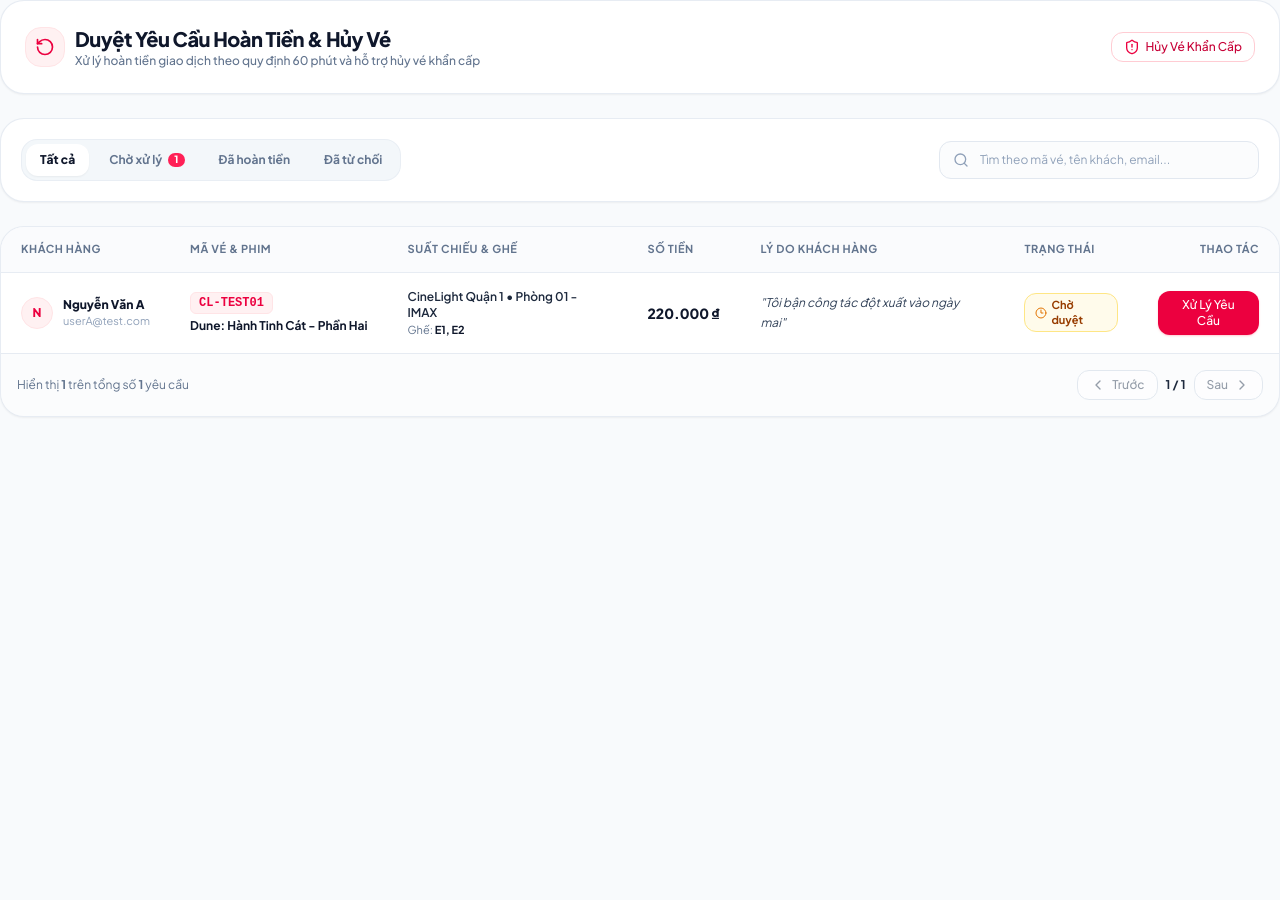
Test: RefundManagement Component › submits APPROVE action successfully and closes modal
Click the button "Xử Lý Yêu Cầu".
click(1208, 313)  # box [1158,291,1259,335]
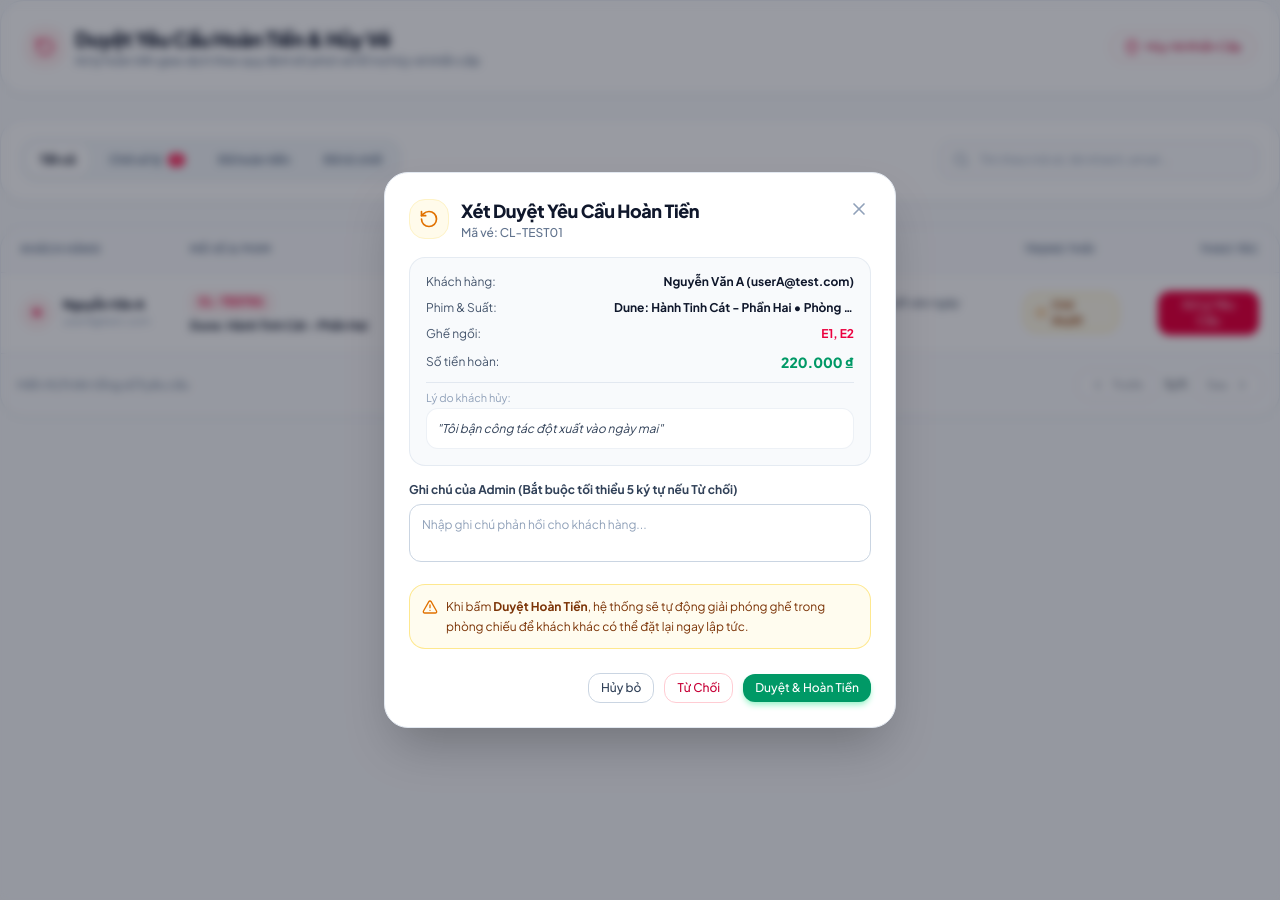
Click the button "Duyệt & Hoàn Tiền".
click(807, 688)  # box [743,674,871,702]
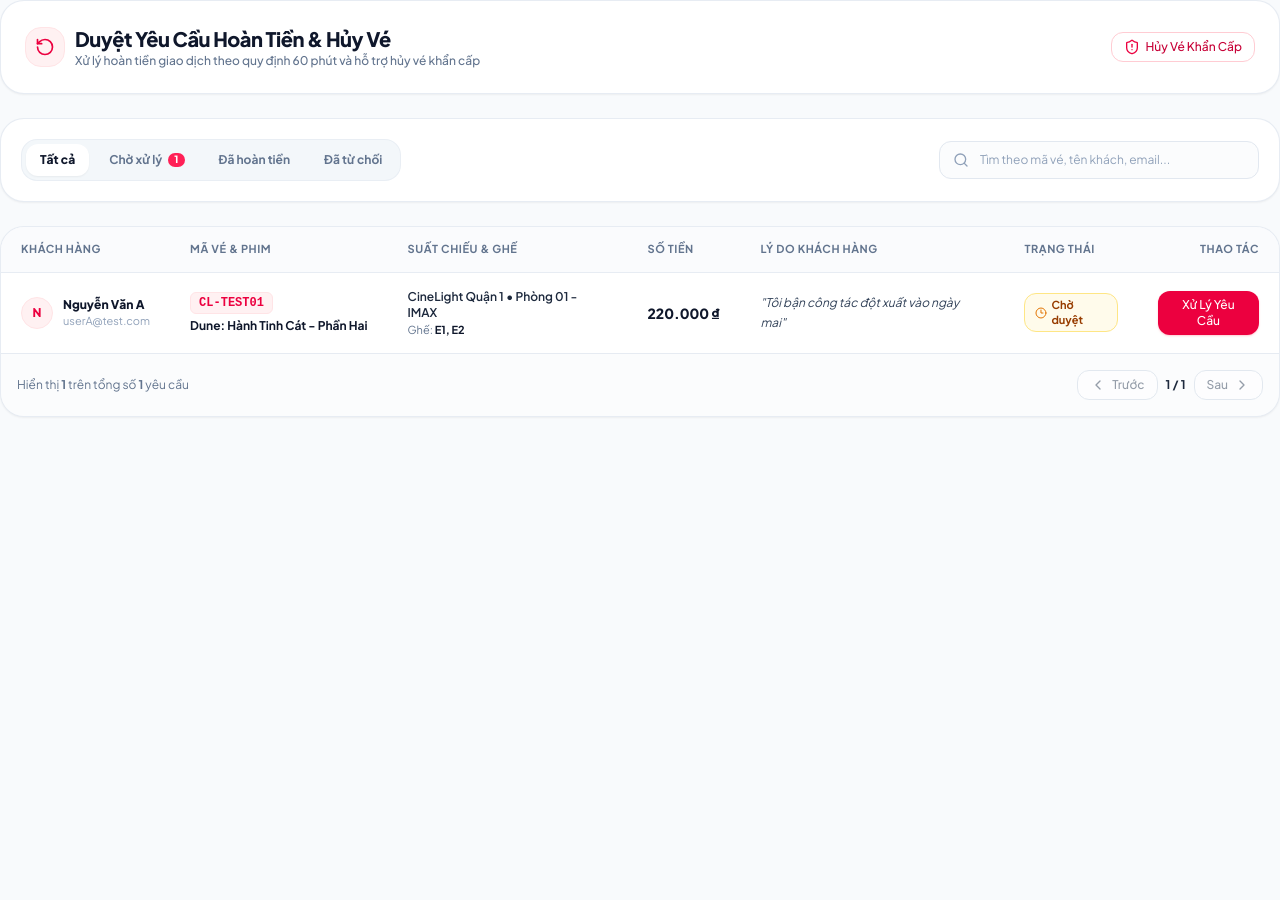
Result: the dialog is gone
